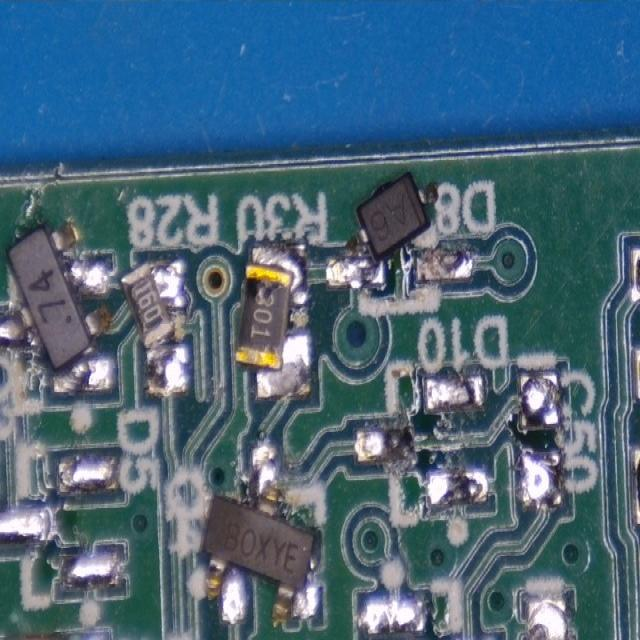Incorrect_installation: (200, 447, 317, 624), (0, 219, 113, 391), (328, 172, 438, 285), (234, 244, 310, 398), (118, 260, 186, 394)
